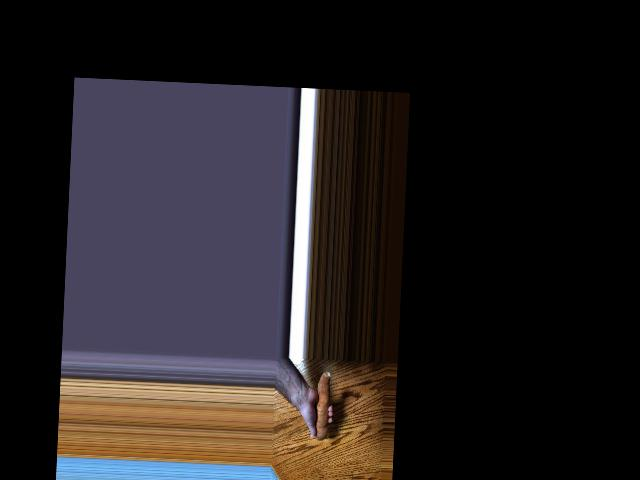sweet_potato: (307, 369, 331, 441)
